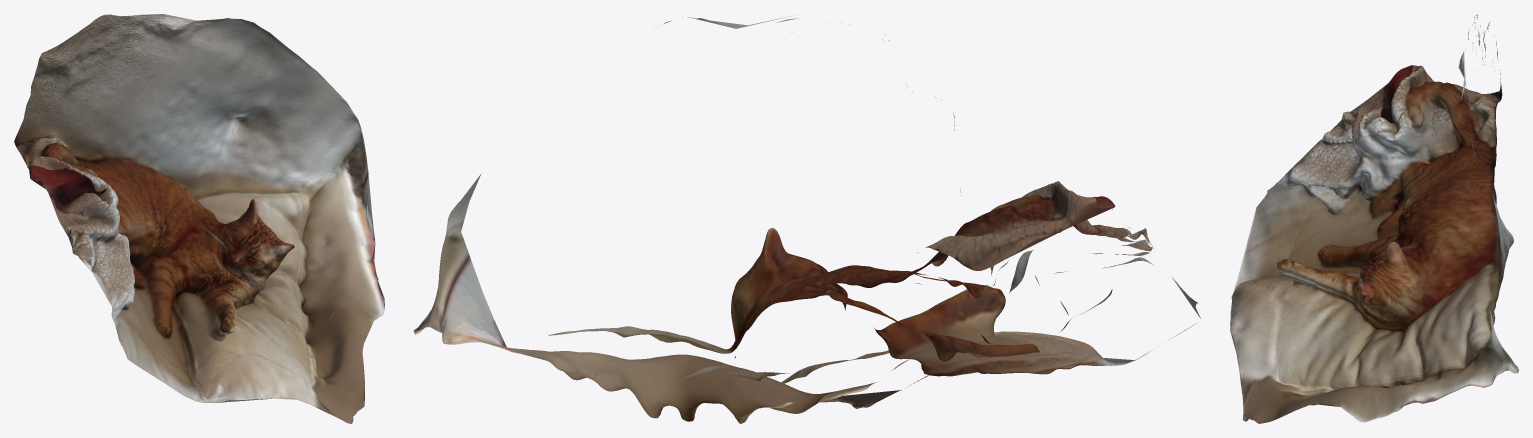
File: toffee3d.glb
3 views of the same model, side by side, from view 1: azimuth 30°, elevation 25°; view 2: azimuth 150°, elevation 25°; view 3: azimuth 270°, elevation 25° (orthographic). The views are drawn at different scales.
Size of the model in its own units: 1.95 by 1.75 by 1.33.
1 material, 1 textured.
